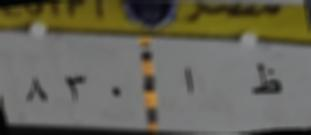0: (107, 82, 125, 104)
3: (62, 71, 92, 109)
8: (24, 74, 50, 109)
Thaa: (249, 59, 290, 98)
alif: (180, 59, 196, 100)
